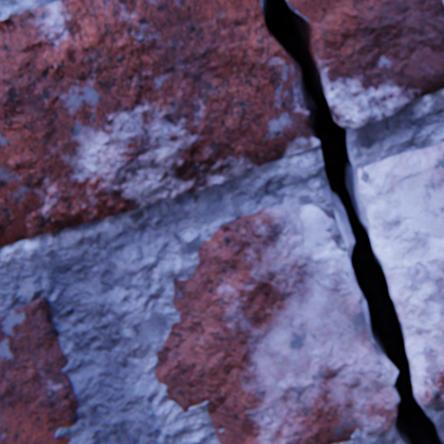brick: (0, 296, 78, 443)
broken_brick: (0, 0, 319, 246), (156, 204, 399, 443), (358, 143, 443, 403), (288, 0, 443, 128)
crack: (262, 0, 443, 443)
